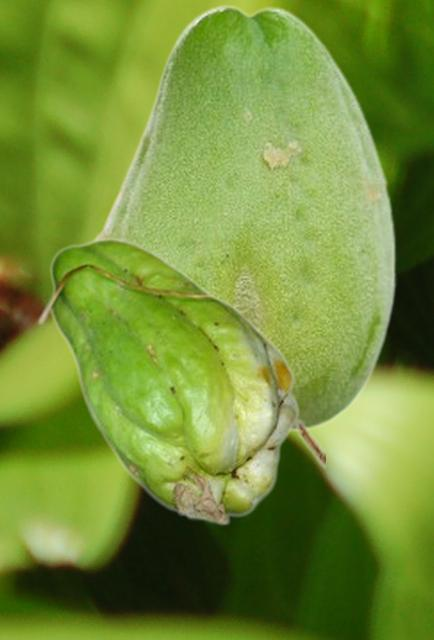sayote: (93, 3, 396, 435), (36, 237, 324, 525)
